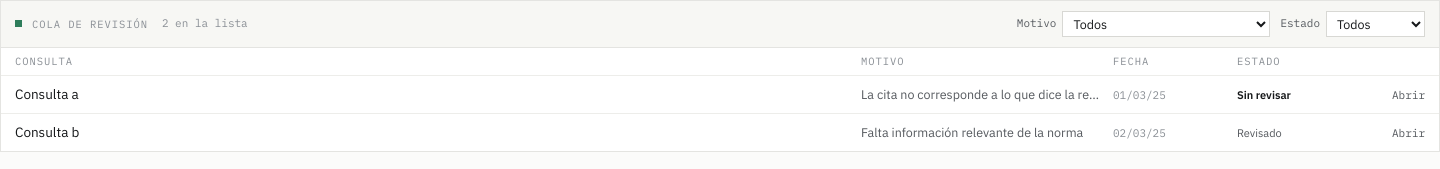
Test: review queue list › filters by review status
Select "Revisado" in the dropdown labelled "Estado": x=1376, y=24 [1326, 11, 1425, 37]
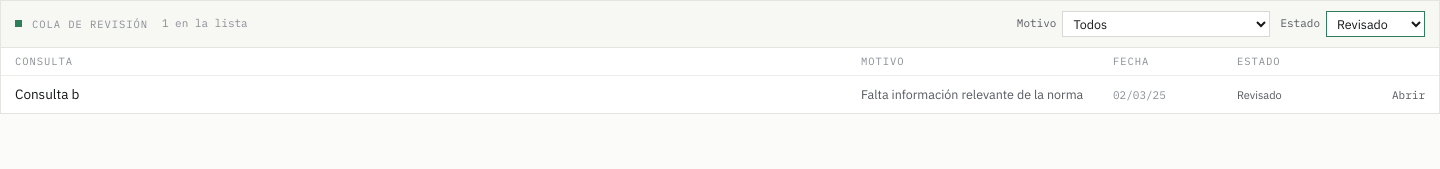
Expected: the list item shows "Consulta b", [15, 85, 79, 103]
Expected: the number of list items is 1, [15, 85, 1425, 103]
